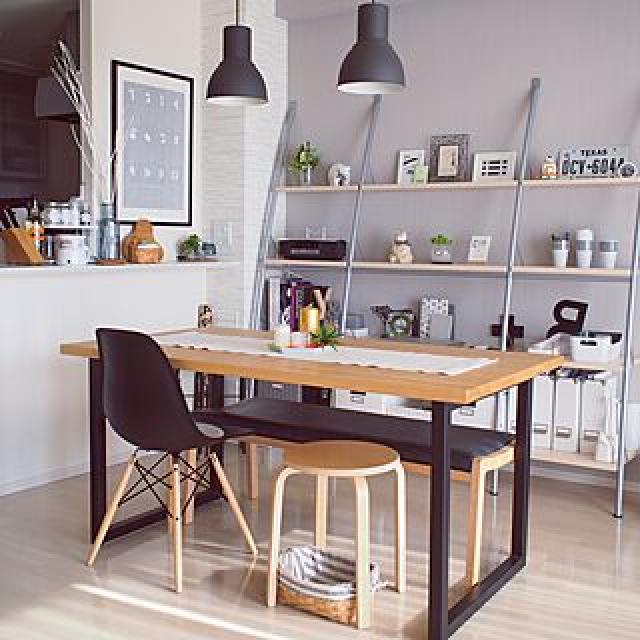modern chair: (80, 323, 265, 605)
modern desk: (213, 316, 580, 640)
modern shelf: (279, 94, 634, 359)
